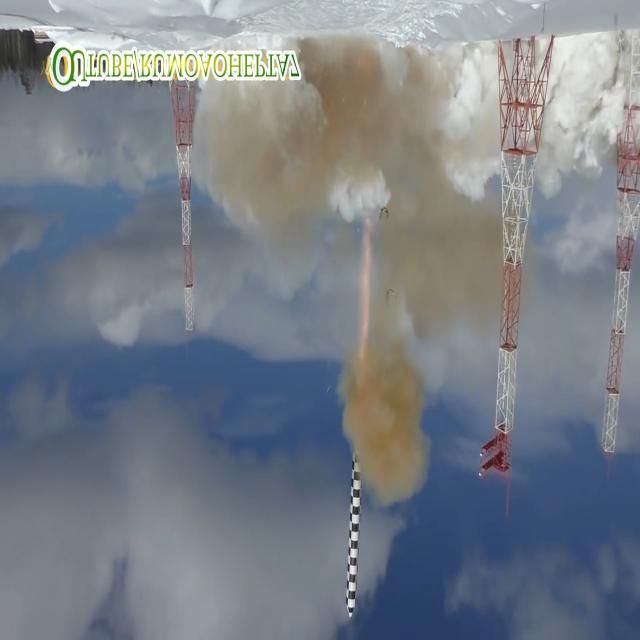Missile: (342, 452, 369, 624)
